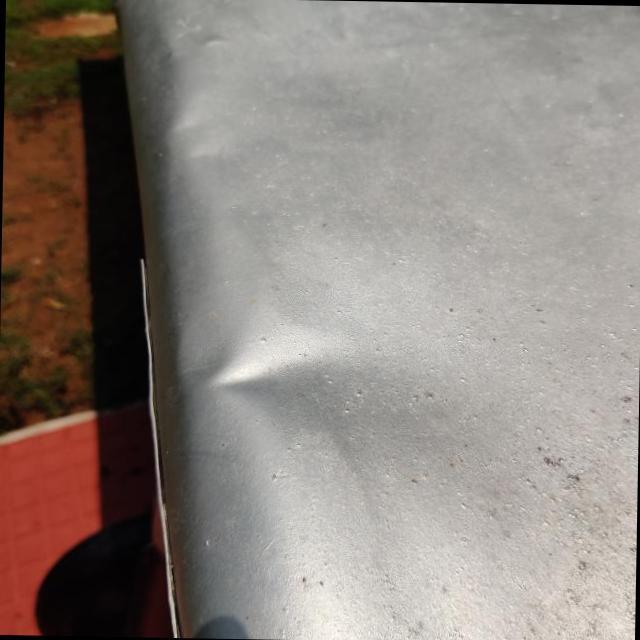Dent: (186, 313, 350, 444)
